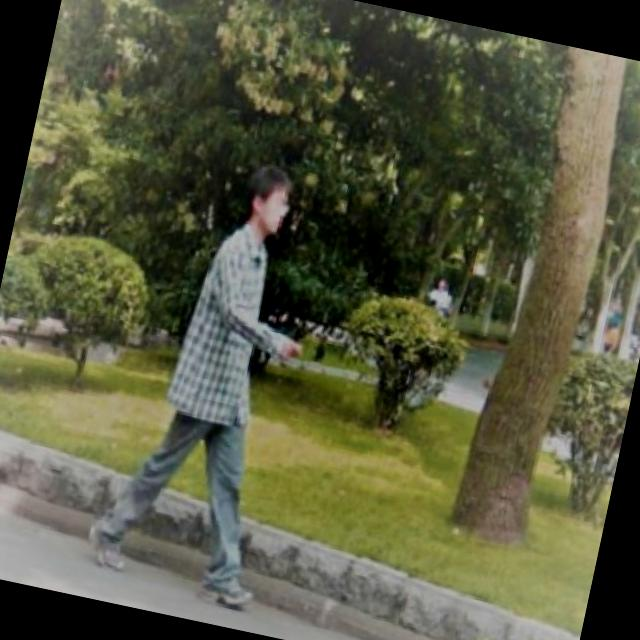Person: (73, 141, 341, 608)
